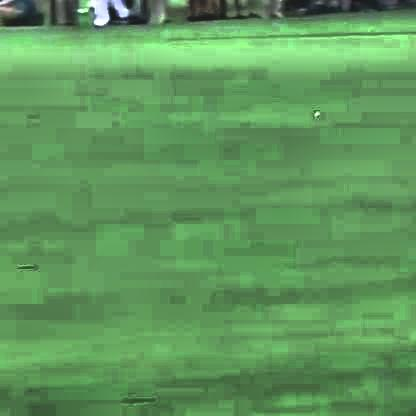golfball: (310, 109, 317, 114)
